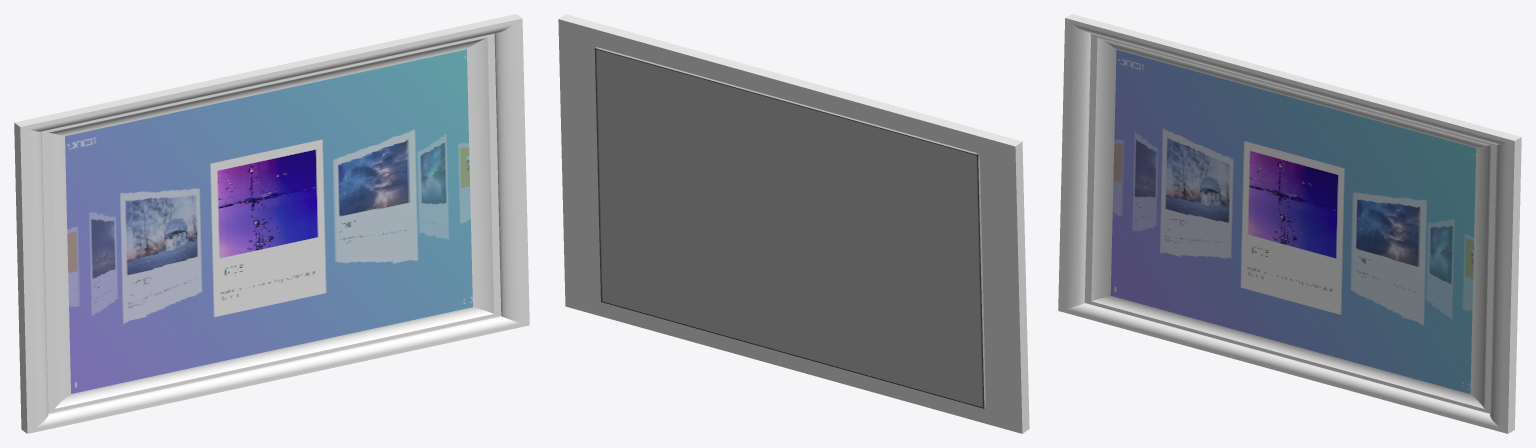
File: photoframe4.glb
The picture shows the model from 3 angles, left to right: view 1: azimuth 30°, elevation 25°; view 2: azimuth 150°, elevation 25°; view 3: azimuth 330°, elevation 25°; orthographic projection. The views are drawn at different scales.
Parts seen in each view (by area): view 1: 큐브, node_id7; view 2: 큐브, node_id7; view 3: 큐브, node_id7.
Boxes of the visible parts, x1,y1,x2,y2 form: 큐브: (65,49,472,393); node_id7: (14,14,529,433); 큐브: (594,47,985,408); node_id7: (558,14,1029,433); 큐브: (1110,50,1476,393); node_id7: (1058,14,1521,433).
Bounding box in the file's own units: 2.31 × 1.37 × 0.2423.
Materials: 2 (1 with a texture image).
